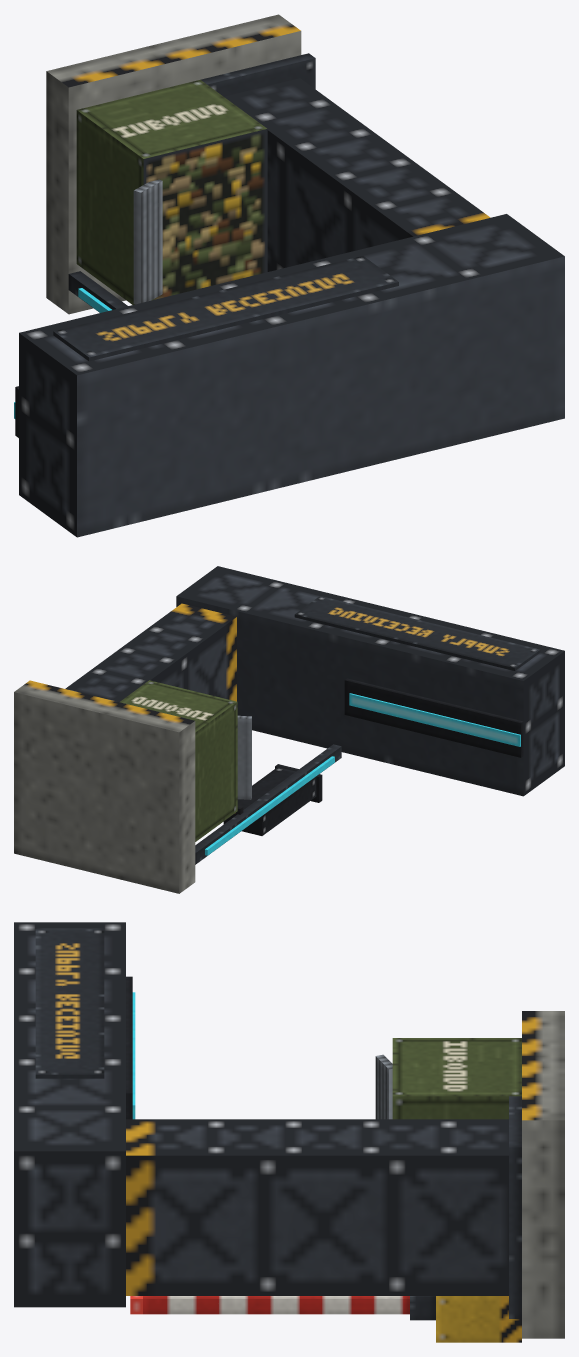
Rendered from supply_receiving_gate_left.obj.
3 views of the same model, one above another, from view 1: azimuth 30°, elevation 25°; view 2: azimuth 150°, elevation 25°; view 3: azimuth 270°, elevation 25° (orthographic). The views are drawn at different scales.
Parts seen in each view (by area): view 1: supply_receiving_gate_left_Beam, supply_receiving_gate_left_Bin_1, supply_receiving_gate_left_Column_1, supply_receiving_gate_left_Footing_1, supply_receiving_gate_left_Title_1, supply_receiving_gate_left_Tip_chute_1, supply_receiving_gate_left_Column_plate_1, supply_receiving_gate_left_Scanner_post_1; view 2: supply_receiving_gate_left_Beam, supply_receiving_gate_left_Footing_1, supply_receiving_gate_left_Column_1, supply_receiving_gate_left_Bin_1, supply_receiving_gate_left_Title_1, supply_receiving_gate_left_Scanner_housing, supply_receiving_gate_left_Scanner_bar, supply_receiving_gate_left_Signal_head_1, supply_receiving_gate_left_Scanner_post_1, supply_receiving_gate_left_Tip_chute_1, supply_receiving_gate_left_Scanner_strip_1; view 3: supply_receiving_gate_left_Column_1, supply_receiving_gate_left_Beam, supply_receiving_gate_left_Footing_1, supply_receiving_gate_left_Title_1, supply_receiving_gate_left_Bin_1, supply_receiving_gate_left_Barrier_arm_1, supply_receiving_gate_left_Barrier_housing_1, supply_receiving_gate_left_Column_plate_1, supply_receiving_gate_left_Tip_chute_1, supply_receiving_gate_left_Scanner_housing, supply_receiving_gate_left_Barrier_pivot_1.
Boxes of the visible parts, x1,y1,x2,y2 form: supply_receiving_gate_left_Beam: (19, 214, 564, 537); supply_receiving_gate_left_Bin_1: (76, 79, 267, 304); supply_receiving_gate_left_Column_1: (224, 78, 490, 271); supply_receiving_gate_left_Footing_1: (46, 14, 301, 314); supply_receiving_gate_left_Title_1: (53, 256, 398, 361); supply_receiving_gate_left_Tip_chute_1: (133, 179, 162, 304); supply_receiving_gate_left_Column_plate_1: (201, 53, 315, 96); supply_receiving_gate_left_Scanner_post_1: (68, 271, 127, 312); supply_receiving_gate_left_Beam: (176, 566, 564, 796); supply_receiving_gate_left_Footing_1: (14, 680, 195, 893); supply_receiving_gate_left_Column_1: (65, 603, 236, 701); supply_receiving_gate_left_Bin_1: (119, 680, 237, 841); supply_receiving_gate_left_Title_1: (294, 596, 540, 670); supply_receiving_gate_left_Scanner_housing: (344, 678, 523, 757); supply_receiving_gate_left_Scanner_bar: (349, 693, 520, 746); supply_receiving_gate_left_Signal_head_1: (223, 767, 316, 835); supply_receiving_gate_left_Scanner_post_1: (195, 744, 341, 864); supply_receiving_gate_left_Tip_chute_1: (237, 715, 251, 799); supply_receiving_gate_left_Scanner_strip_1: (205, 756, 334, 855); supply_receiving_gate_left_Column_1: (126, 1119, 508, 1295); supply_receiving_gate_left_Beam: (14, 922, 125, 1307); supply_receiving_gate_left_Footing_1: (522, 1011, 564, 1338); supply_receiving_gate_left_Title_1: (35, 929, 104, 1078); supply_receiving_gate_left_Bin_1: (392, 1038, 521, 1119); supply_receiving_gate_left_Barrier_arm_1: (143, 1296, 409, 1314); supply_receiving_gate_left_Barrier_housing_1: (436, 1296, 521, 1342); supply_receiving_gate_left_Column_plate_1: (509, 1096, 521, 1318); supply_receiving_gate_left_Tip_chute_1: (375, 1054, 392, 1119); supply_receiving_gate_left_Scanner_housing: (126, 976, 132, 1119); supply_receiving_gate_left_Barrier_pivot_1: (410, 1296, 435, 1320).
Bounding box in the file's own units: 2 × 0.9219 × 2.
